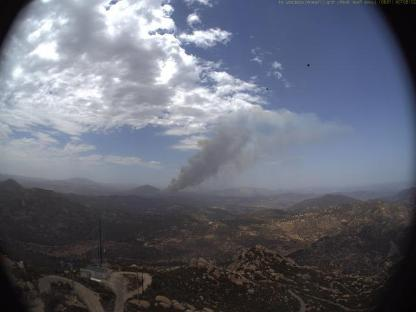smoke: (144, 103, 358, 201)
